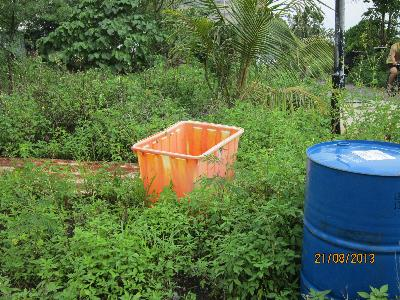box: (132, 119, 245, 209)
bucket: (302, 139, 399, 300)
